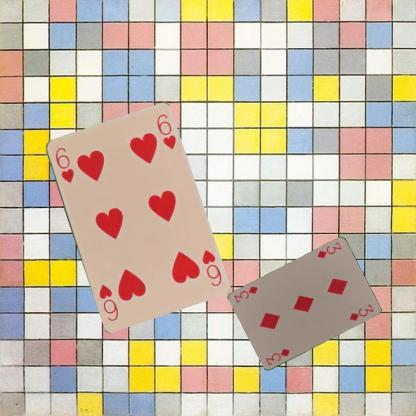3d: (314, 239, 343, 260), (263, 346, 291, 367)
6h: (198, 247, 223, 288), (52, 144, 75, 184)
